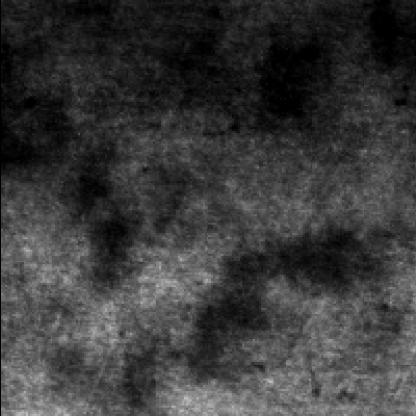patches: (179, 233, 281, 383), (252, 212, 393, 302), (66, 146, 147, 291), (251, 27, 332, 129), (4, 75, 79, 175), (366, 0, 416, 81)
